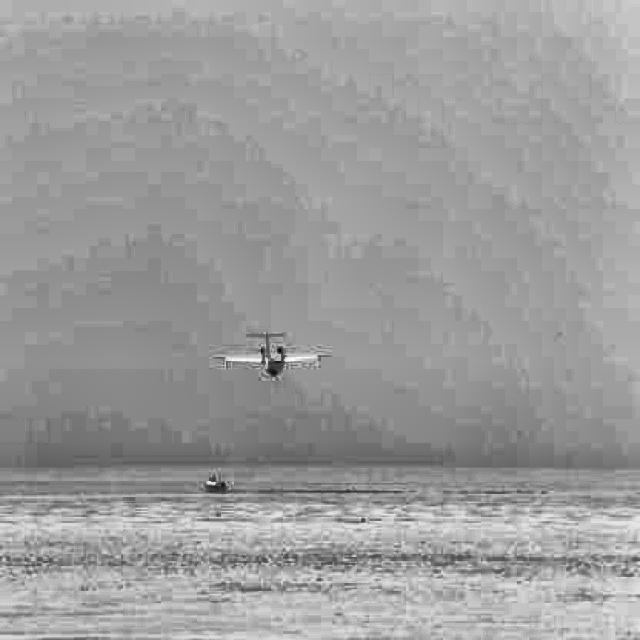Be200: (214, 329, 331, 377)
